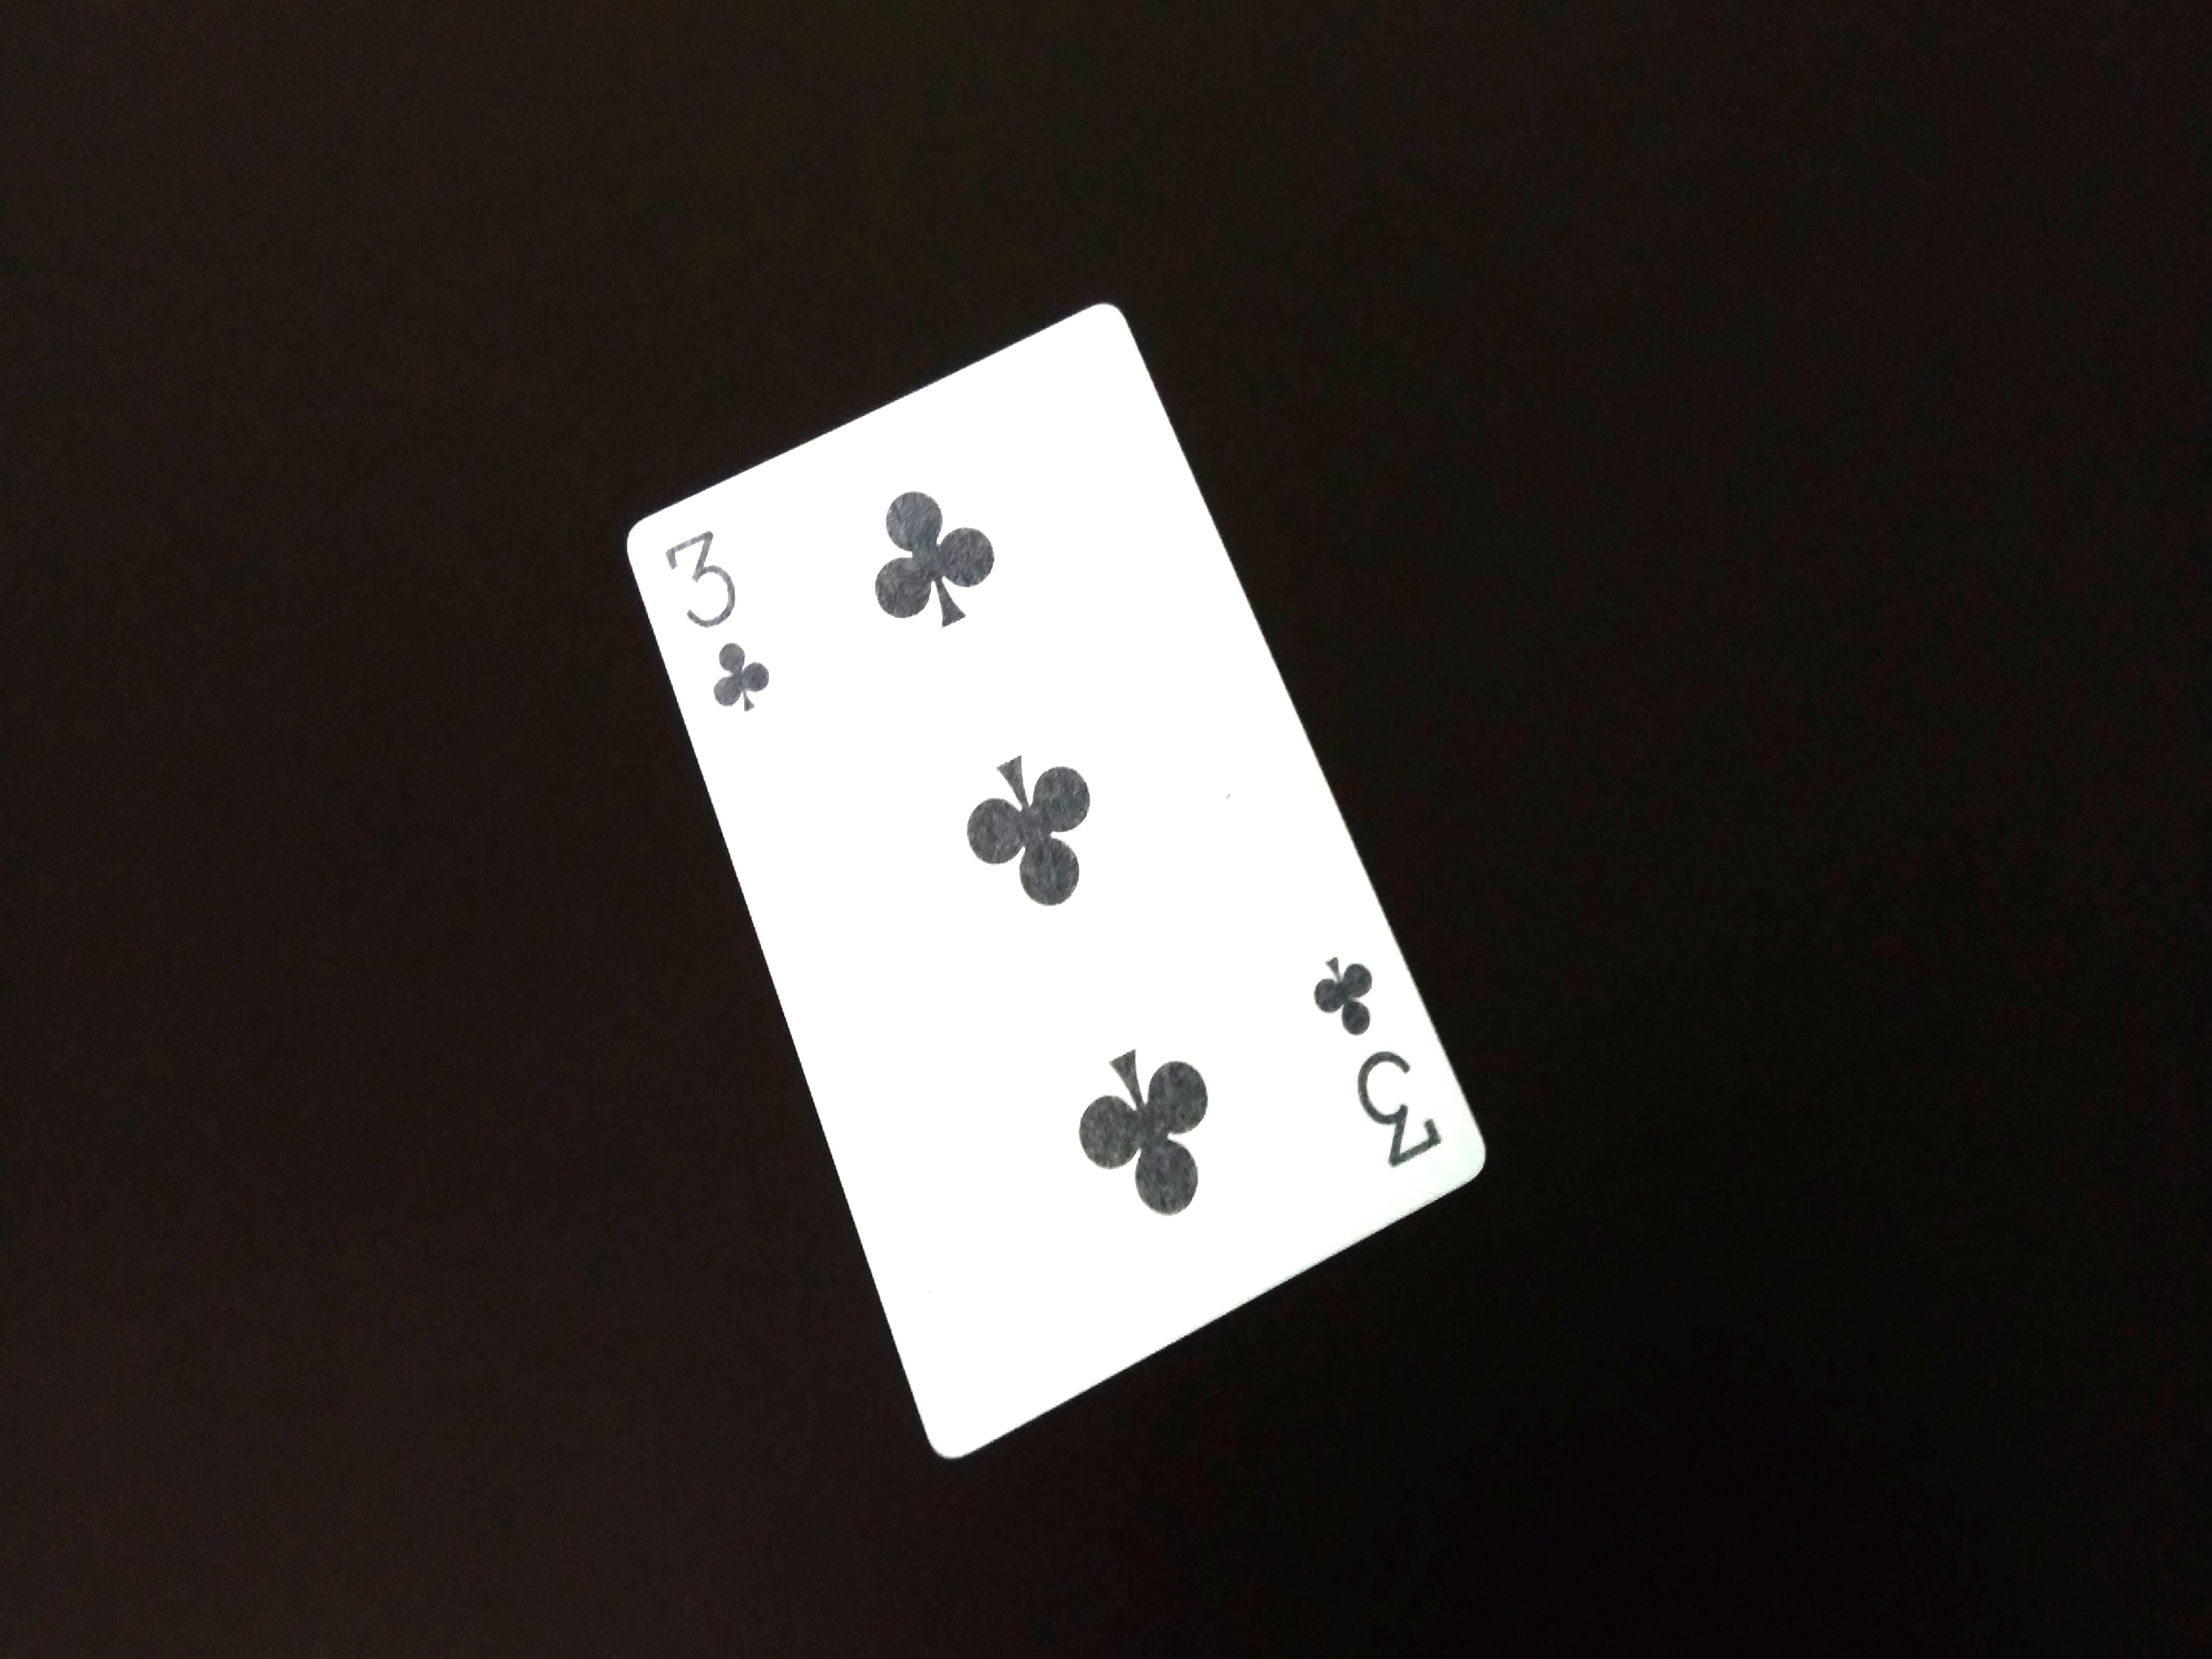3C: (637, 509, 817, 730)
